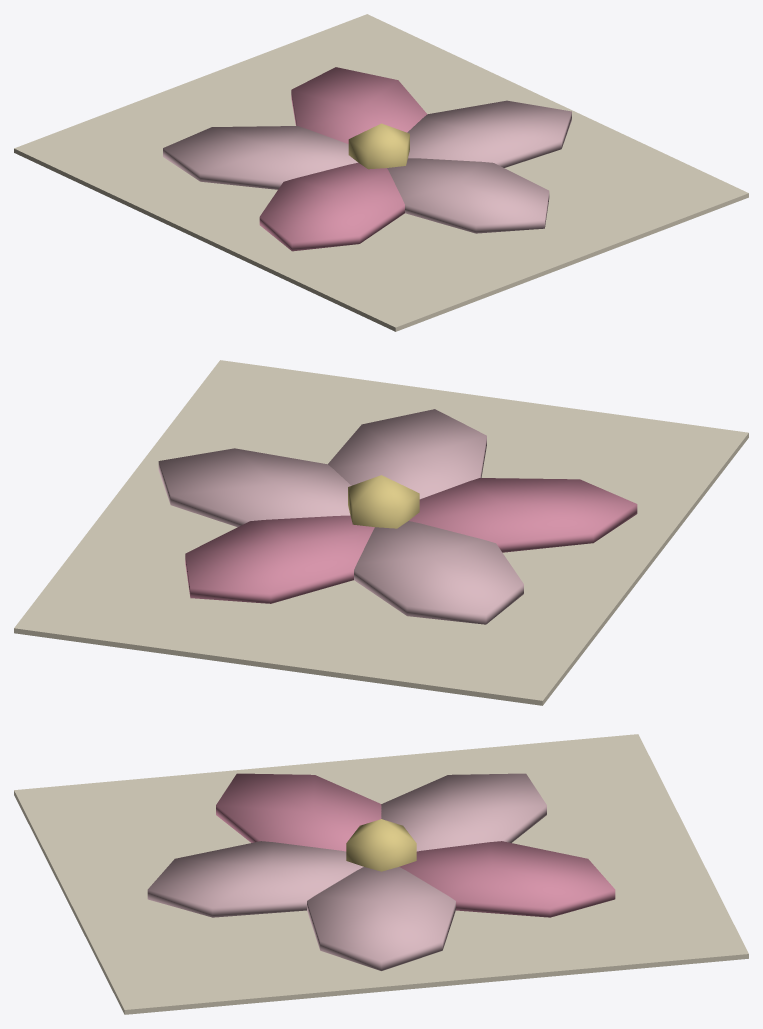
Rendered from col_rose_petal_pressed.gltf.
3 views of the same model, one above another, from view 1: azimuth 30°, elevation 25°; view 2: azimuth 150°, elevation 25°; view 3: azimuth 270°, elevation 25° (orthographic). The views are drawn at different scales.
Visible parts, largest first — view 1: col_rose_petal_pressed; view 2: col_rose_petal_pressed; view 3: col_rose_petal_pressed.
Part boxes in pixels (left/top/right/bottom): col_rose_petal_pressed: left=14, top=14, right=748, bottom=331; col_rose_petal_pressed: left=14, top=360, right=748, bottom=705; col_rose_petal_pressed: left=14, top=734, right=748, bottom=1014.
Size of what is drawn, in the model's own units: 0.1228 by 0.016 by 0.1382.
